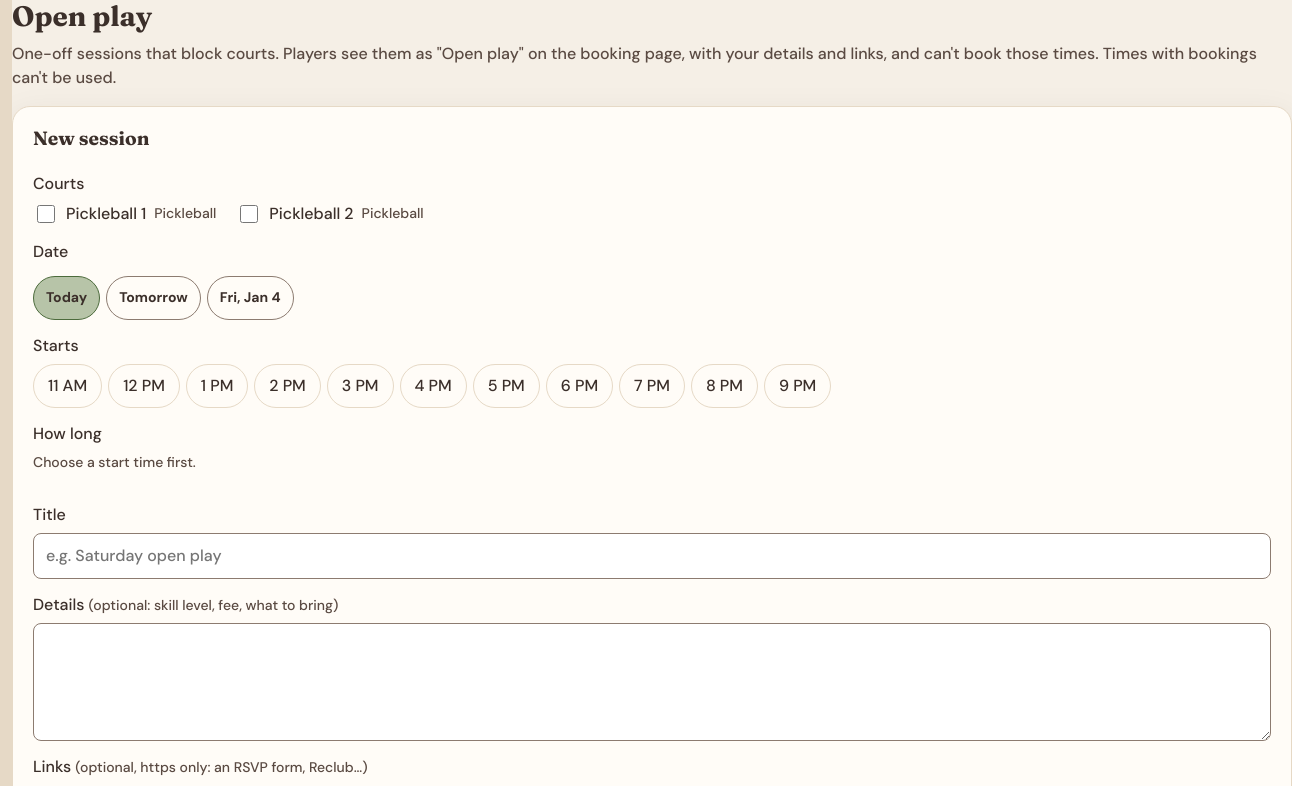
Test case: OpenPlayPage › shows the server's message when the time clashes with bookings
Click the checkbox labelled "Pickleball 2 Pickleball": (249, 214) [240,205,258,223]
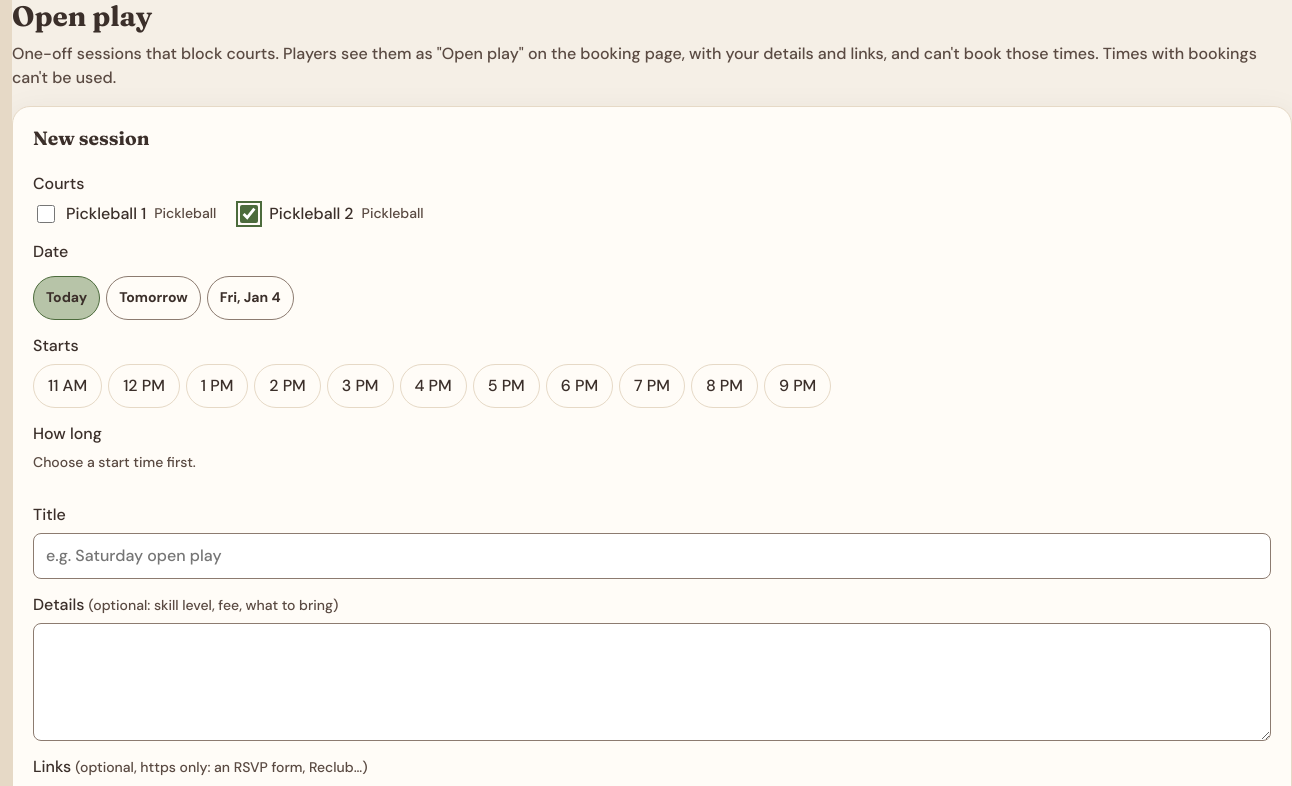
Click the button "Tomorrow": (153, 298) [106,276,201,320]
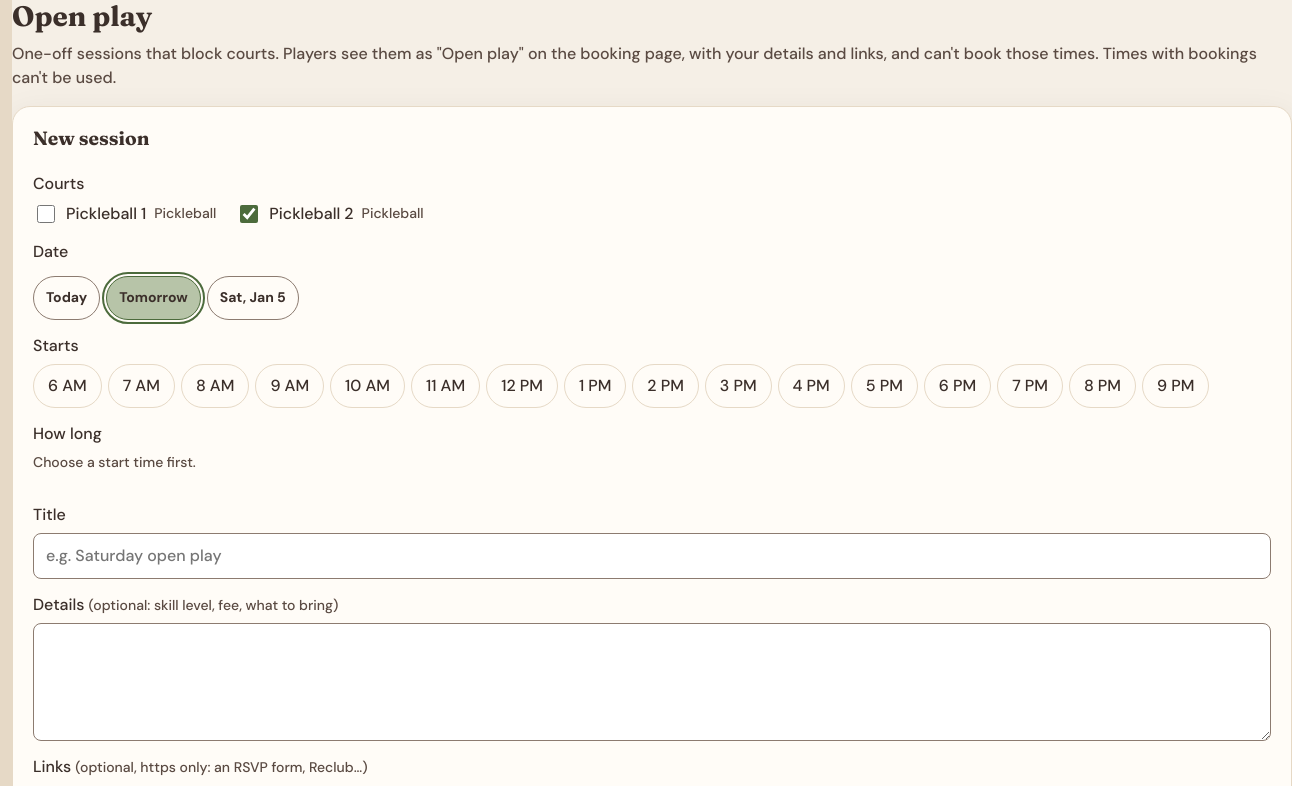
Click the radio button labelled "1 PM": (595, 386) [564,364,626,408]
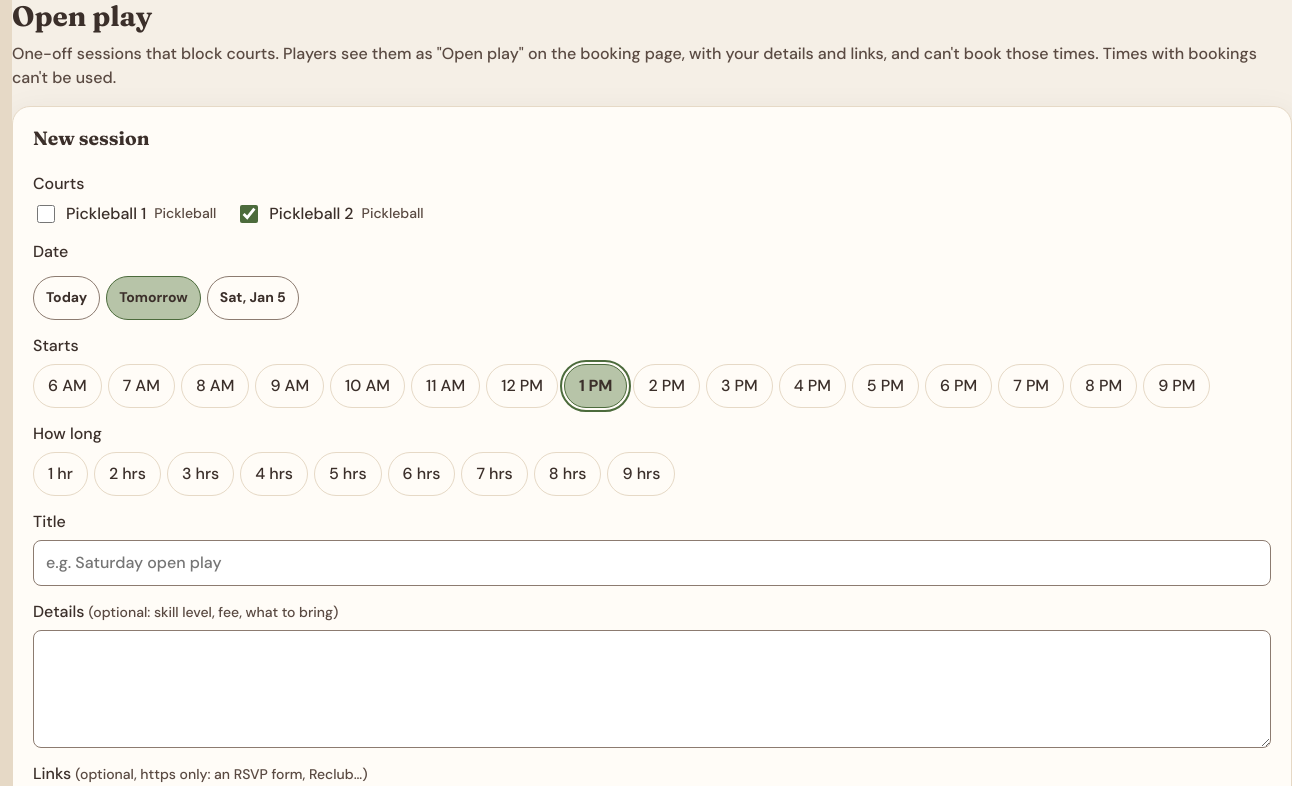
Click the radio button labelled "2 hrs": (127, 474) [94,452,161,496]
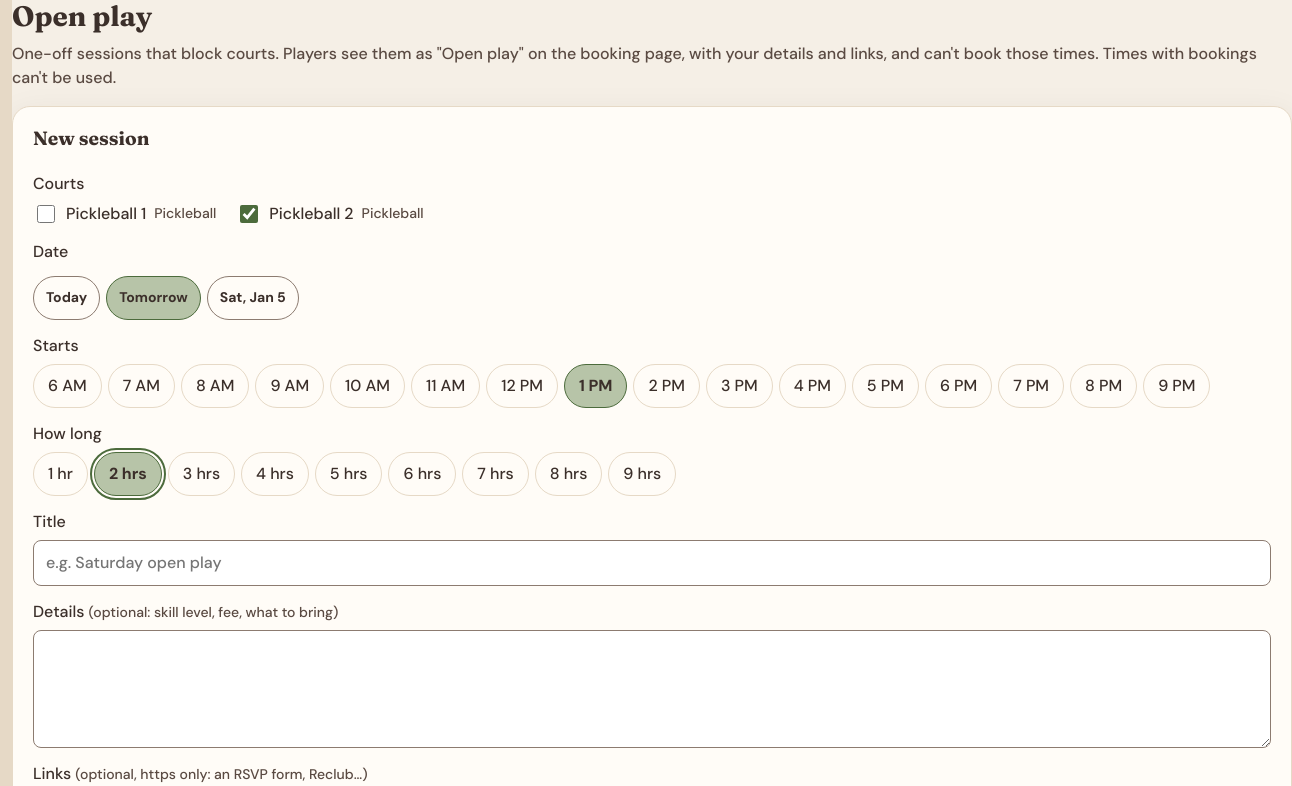
In the field labelled "Title": (652, 563) [33,540,1271,586], type "  Saturday open play "
(page scrolled)
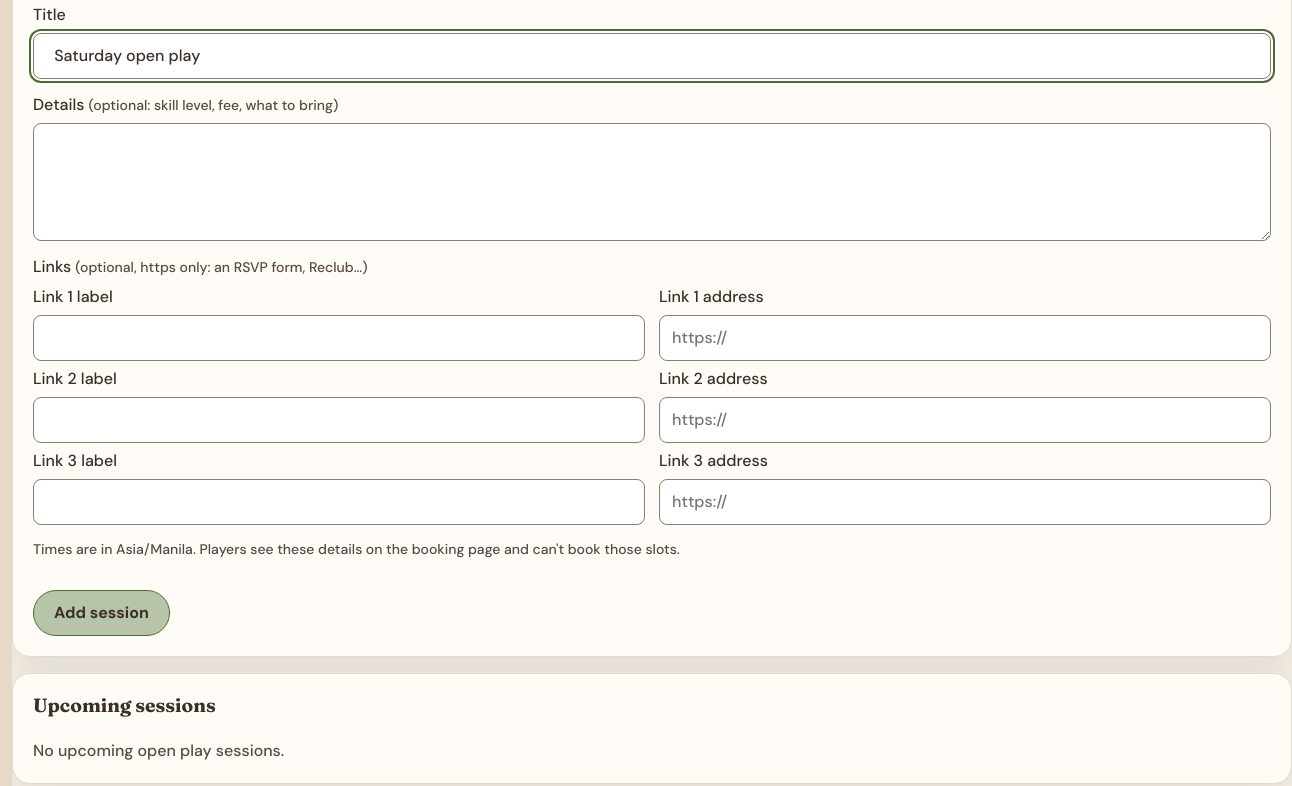
Click the button "Add session": (101, 613) [33,590,170,636]
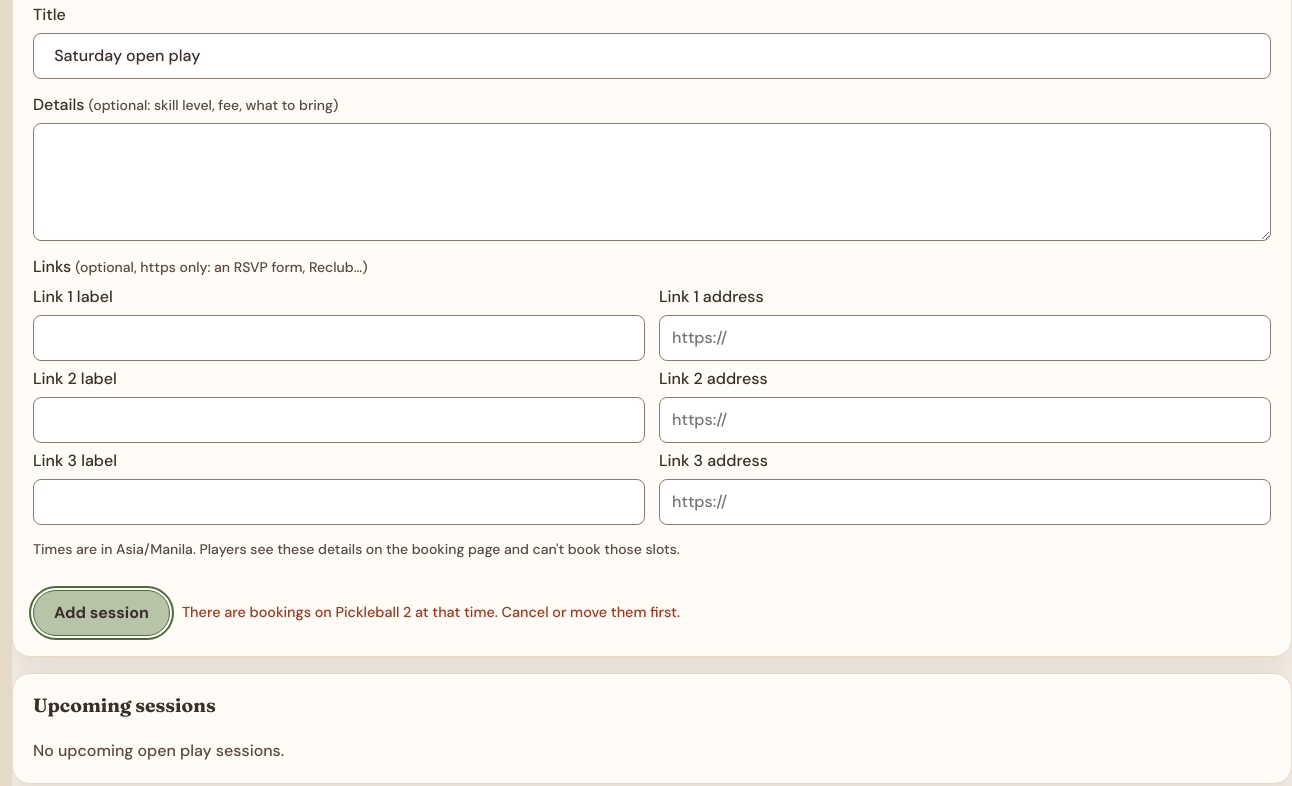
Expected: the message reads "There are bookings on Pickleball 2 at that time. Cancel or move them first.", [182,603,680,621]
